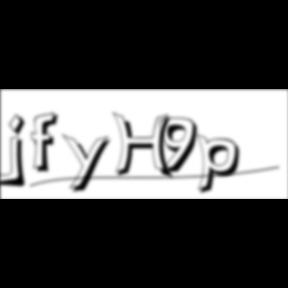9: (160, 117, 204, 177)
H: (112, 112, 178, 182)
f: (32, 111, 64, 175)
j: (6, 113, 32, 191)
p: (197, 132, 247, 198)
y: (63, 132, 117, 196)
